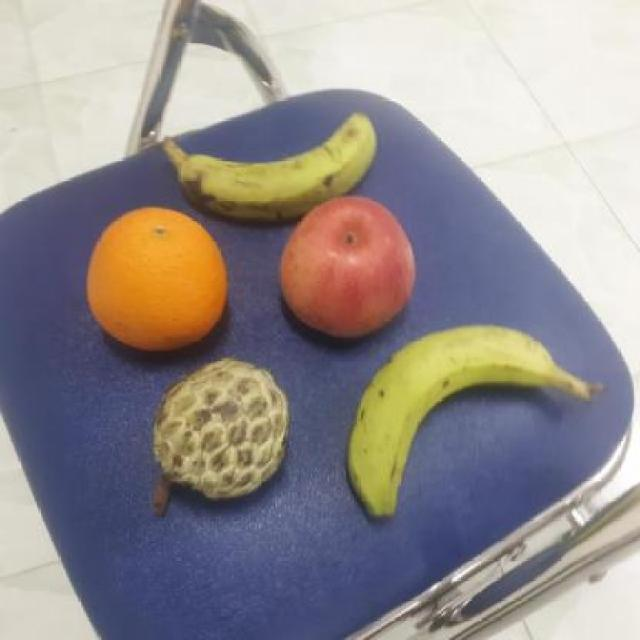apple: (274, 192, 420, 340)
banana: (345, 321, 560, 521), (175, 106, 380, 225)
oren: (79, 201, 233, 355)
sugar apple: (146, 355, 292, 508)
